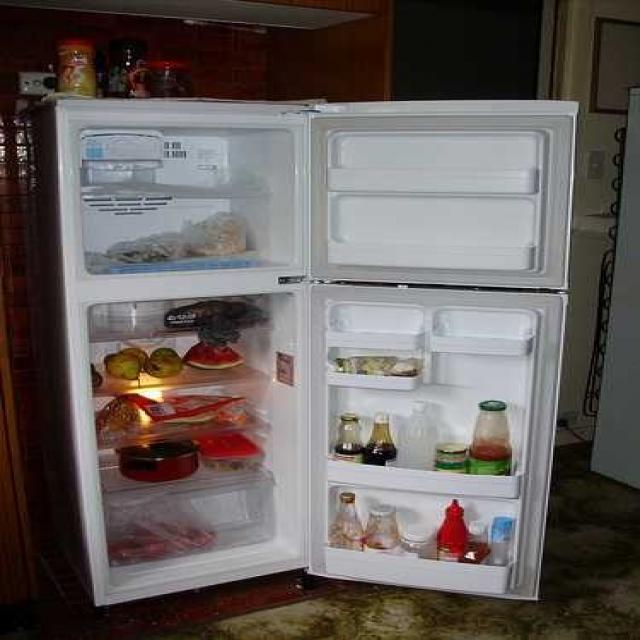refrigerator: (45, 101, 522, 587)
